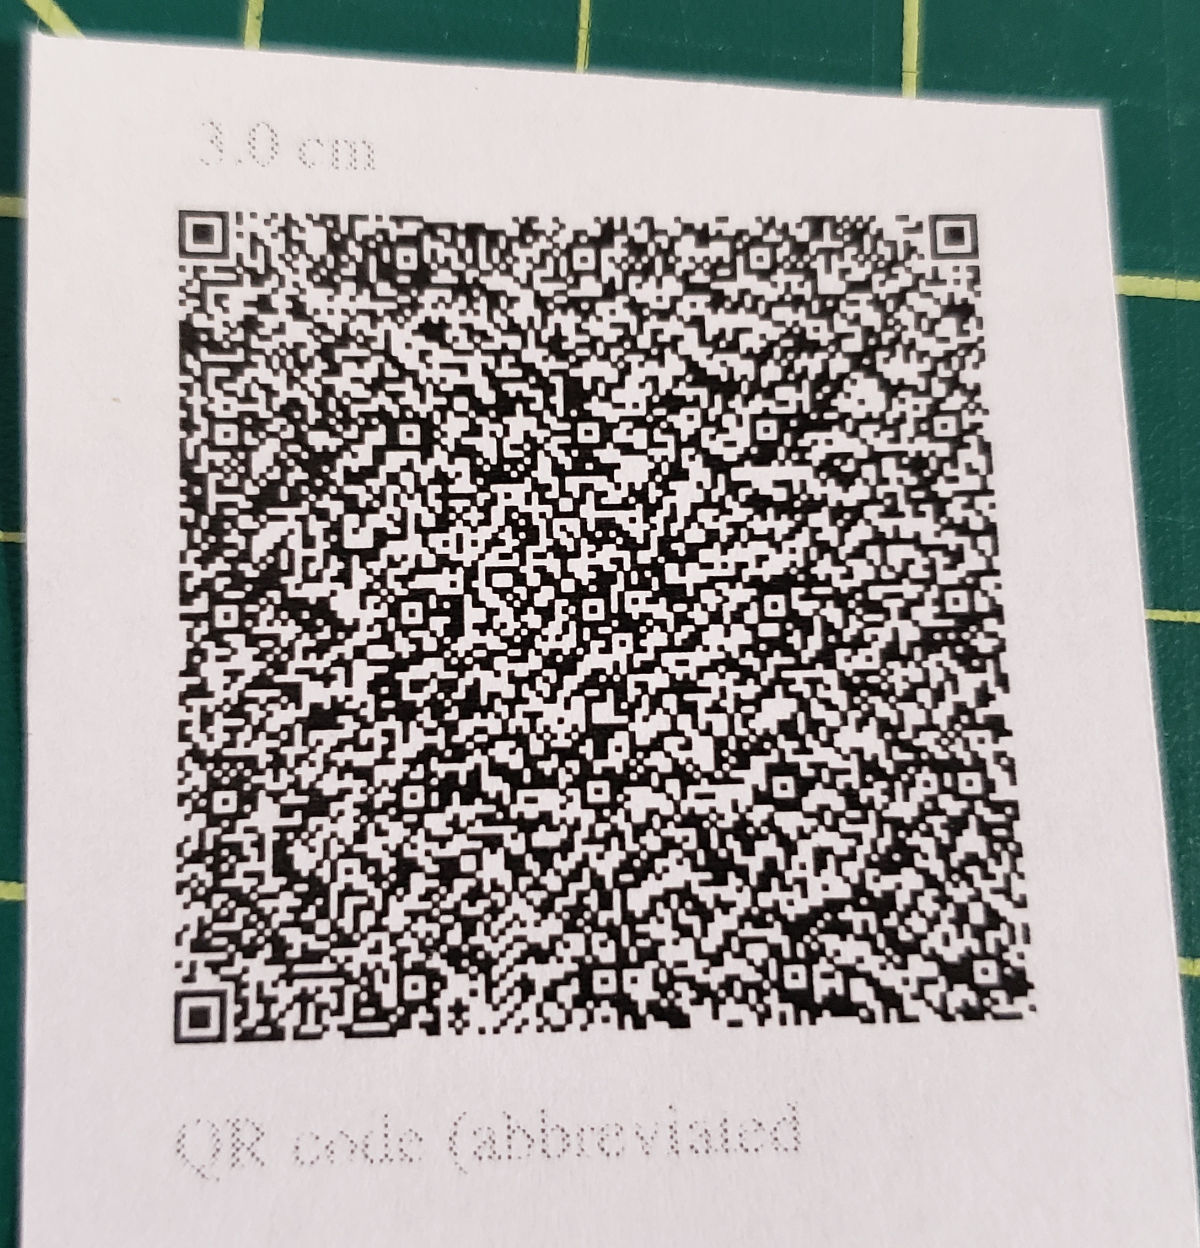QR_CODE: (113, 140, 1080, 1070)
